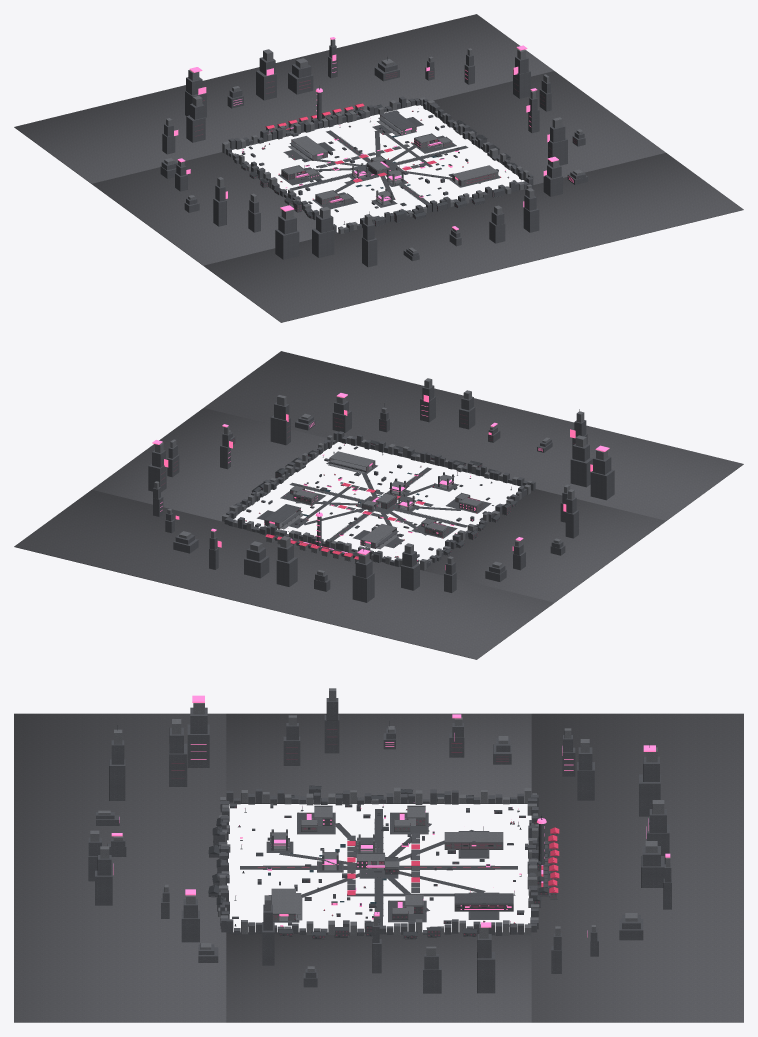
Rendered from yoichi-lod0.glb.
3 views of the same model, one above another, from view 1: azimuth 30°, elevation 25°; view 2: azimuth 150°, elevation 25°; view 3: azimuth 270°, elevation 25° (orthographic). The views are drawn at different scales.
Visible parts, largest first — view 1: HB_yoichi_LOD0_terrain, HB_yoichi_LOD0_wall_alt, HB_yoichi_LOD0_wall, HB_yoichi_LOD0_road, HB_yoichi_LOD0_emissive, HB_yoichi_LOD0_trim, HB_yoichi_LOD0_accent, HB_yoichi_LOD0_glass, HB_yoichi_LOD0_obstacle; view 2: HB_yoichi_LOD0_terrain, HB_yoichi_LOD0_wall_alt, HB_yoichi_LOD0_wall, HB_yoichi_LOD0_road, HB_yoichi_LOD0_trim, HB_yoichi_LOD0_emissive; view 3: HB_yoichi_LOD0_terrain, HB_yoichi_LOD0_wall_alt, HB_yoichi_LOD0_wall, HB_yoichi_LOD0_road, HB_yoichi_LOD0_trim, HB_yoichi_LOD0_emissive, HB_yoichi_LOD0_accent, HB_yoichi_LOD0_glass, HB_yoichi_LOD0_obstacle.
Boxes of the visible parts, x1,y1,x2,y2 form: HB_yoichi_LOD0_terrain: (14, 14, 743, 322); HB_yoichi_LOD0_wall_alt: (160, 45, 587, 267); HB_yoichi_LOD0_wall: (164, 39, 583, 252); HB_yoichi_LOD0_road: (242, 111, 508, 224); HB_yoichi_LOD0_emissive: (174, 37, 573, 230); HB_yoichi_LOD0_trim: (241, 57, 518, 223); HB_yoichi_LOD0_accent: (262, 103, 500, 199); HB_yoichi_LOD0_glass: (195, 71, 576, 224); HB_yoichi_LOD0_obstacle: (242, 112, 515, 228); HB_yoichi_LOD0_terrain: (14, 351, 743, 659); HB_yoichi_LOD0_wall_alt: (148, 385, 614, 602); HB_yoichi_LOD0_wall: (154, 378, 607, 575); HB_yoichi_LOD0_road: (245, 452, 511, 557); HB_yoichi_LOD0_trim: (240, 403, 579, 557); HB_yoichi_LOD0_emissive: (152, 393, 609, 569); HB_yoichi_LOD0_terrain: (14, 713, 743, 1022); HB_yoichi_LOD0_wall_alt: (88, 698, 671, 993); HB_yoichi_LOD0_wall: (90, 688, 670, 971); HB_yoichi_LOD0_road: (234, 806, 521, 926); HB_yoichi_LOD0_trim: (117, 721, 649, 938); HB_yoichi_LOD0_emissive: (111, 695, 670, 937); HB_yoichi_LOD0_accent: (258, 806, 559, 923); HB_yoichi_LOD0_glass: (171, 729, 557, 937); HB_yoichi_LOD0_obstacle: (230, 804, 527, 926).
Size of the model in its own units: 722 by 80.61 by 722.
Materials: 11 (8 with a texture image).
